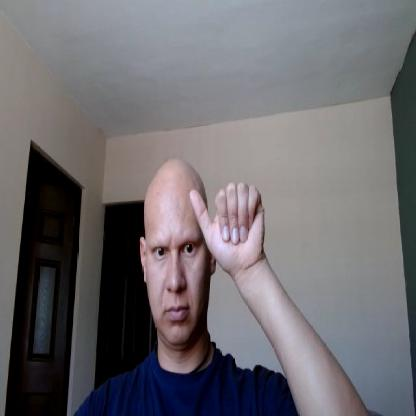A: (189, 182, 266, 272)
